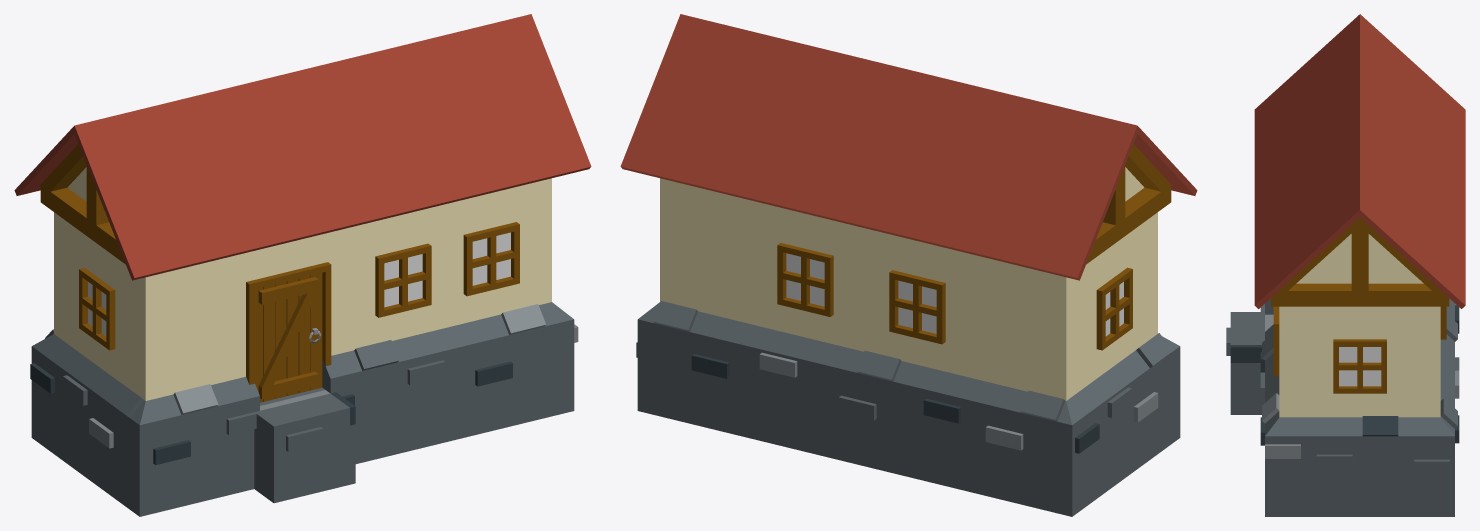
The model's file is Casa vermelha.fbx.
3 views of the same model, side by side, from view 1: azimuth 30°, elevation 25°; view 2: azimuth 150°, elevation 25°; view 3: azimuth 270°, elevation 25° (orthographic). The views are drawn at different scales.
Parts seen in each view (by area): view 1: House body, Roof, Door, Windows; view 2: House body, Roof, Windows; view 3: Roof, House body, Windows.
Boxes of the visible parts, x1,y1,x2,y2 form: House body: (30,178,578,516); Roof: (14,14,591,280); Door: (246,262,331,402); Windows: (79,222,519,350); House body: (636,178,1180,516); Roof: (620,14,1197,280); Windows: (777,243,1132,350); Roof: (1254,14,1465,309); House body: (1226,298,1459,516); Windows: (1273,306,1446,393).
Size of the model in its own units: 809 by 600 by 417.
